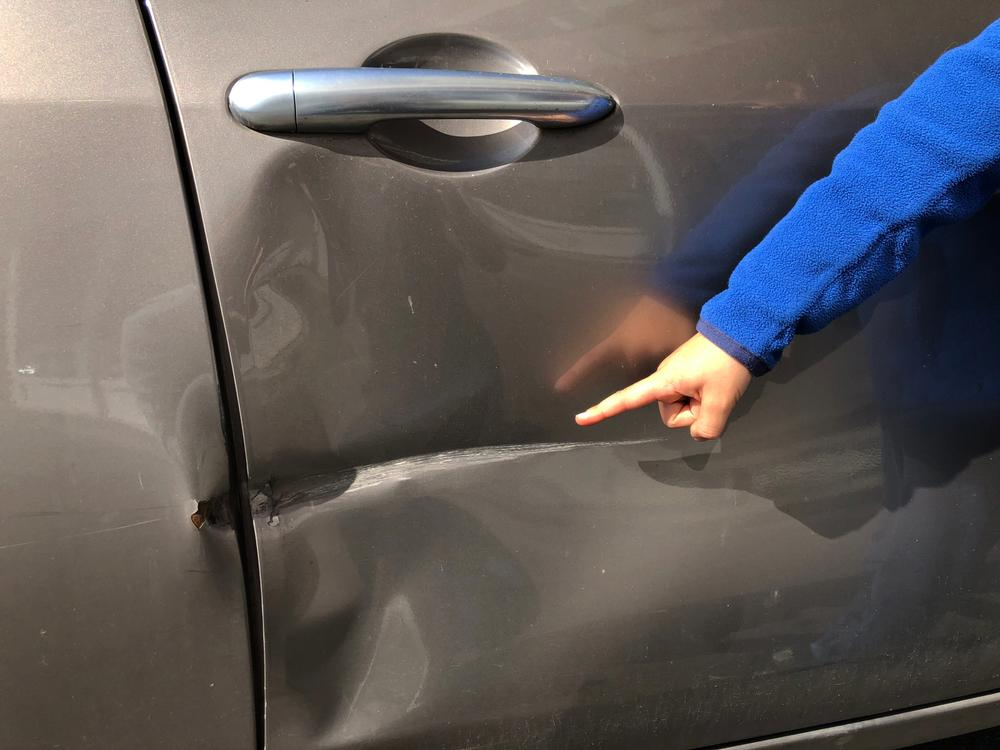dent: (223, 147, 652, 745)
scratch: (507, 435, 666, 465)
